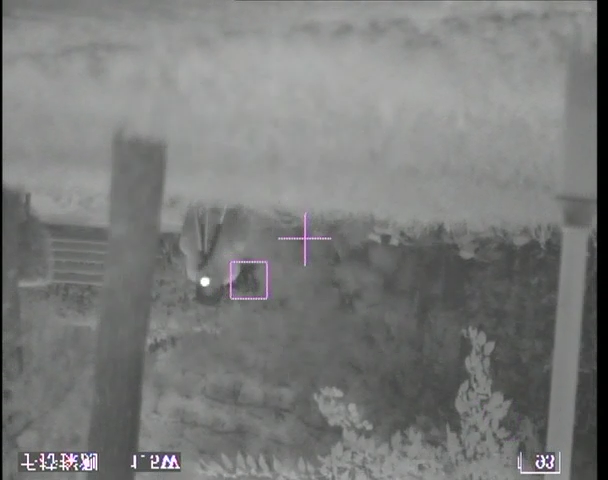my: (200, 276, 213, 289)
